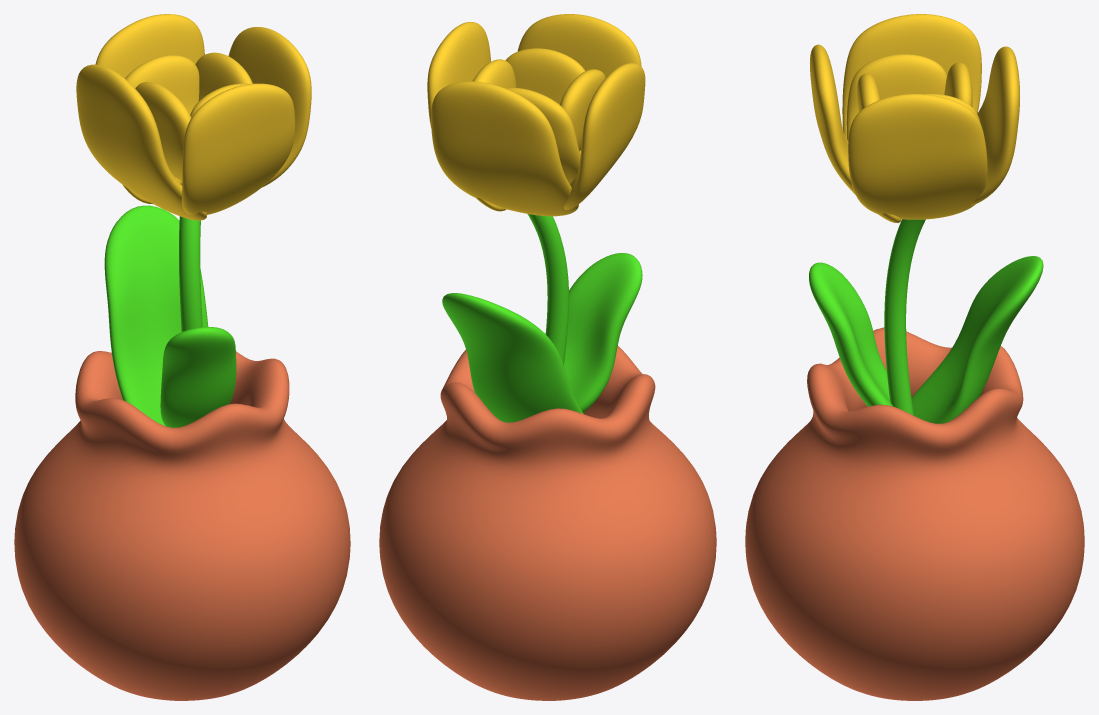
The model's file is flower.glb.
The picture shows the model from 3 angles, left to right: view 1: azimuth 30°, elevation 25°; view 2: azimuth 150°, elevation 25°; view 3: azimuth 270°, elevation 25°; orthographic projection.
Parts seen in each view (by area): view 1: 花瓶, 花, 平面.001, 茎; view 2: 花瓶, 花, 平面.001, 茎; view 3: 花瓶, 花, 平面.001, 茎.
Part boxes in pixels (left/top/right/bottom): 花瓶: left=14, top=351, right=350, bottom=700; 花: left=76, top=14, right=311, bottom=220; 平面.001: left=104, top=205, right=236, bottom=427; 茎: left=179, top=185, right=202, bottom=331; 花瓶: left=379, top=345, right=716, bottom=700; 花: left=427, top=14, right=645, bottom=216; 平面.001: left=442, top=253, right=642, bottom=422; 茎: left=527, top=214, right=568, bottom=365; 花瓶: left=745, top=327, right=1084, bottom=700; 花: left=810, top=14, right=1019, bottom=222; 平面.001: left=809, top=256, right=1043, bottom=423; 茎: left=884, top=219, right=925, bottom=415.
Size of the model in its own units: 2.49 by 5.03 by 2.49.
